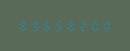eight: (17, 20, 28, 31), (65, 20, 76, 31)
five: (53, 20, 64, 31)
nine: (29, 20, 40, 31)
six: (41, 20, 52, 31)
two: (77, 20, 88, 31)
zero: (89, 20, 100, 31), (101, 20, 112, 31)
